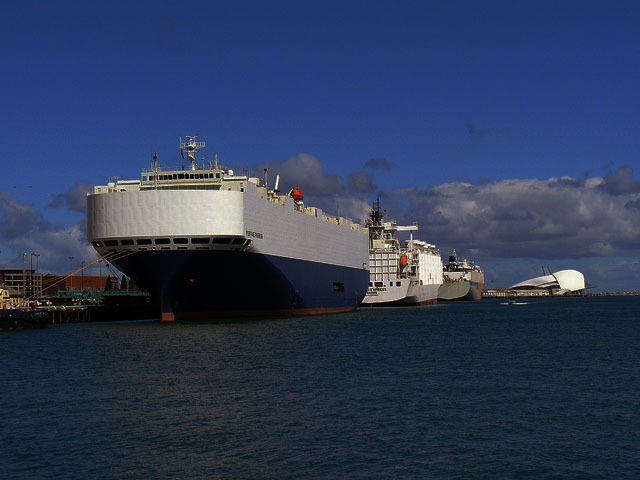PCC: (89, 137, 371, 321), (370, 204, 444, 302), (444, 245, 489, 302)
